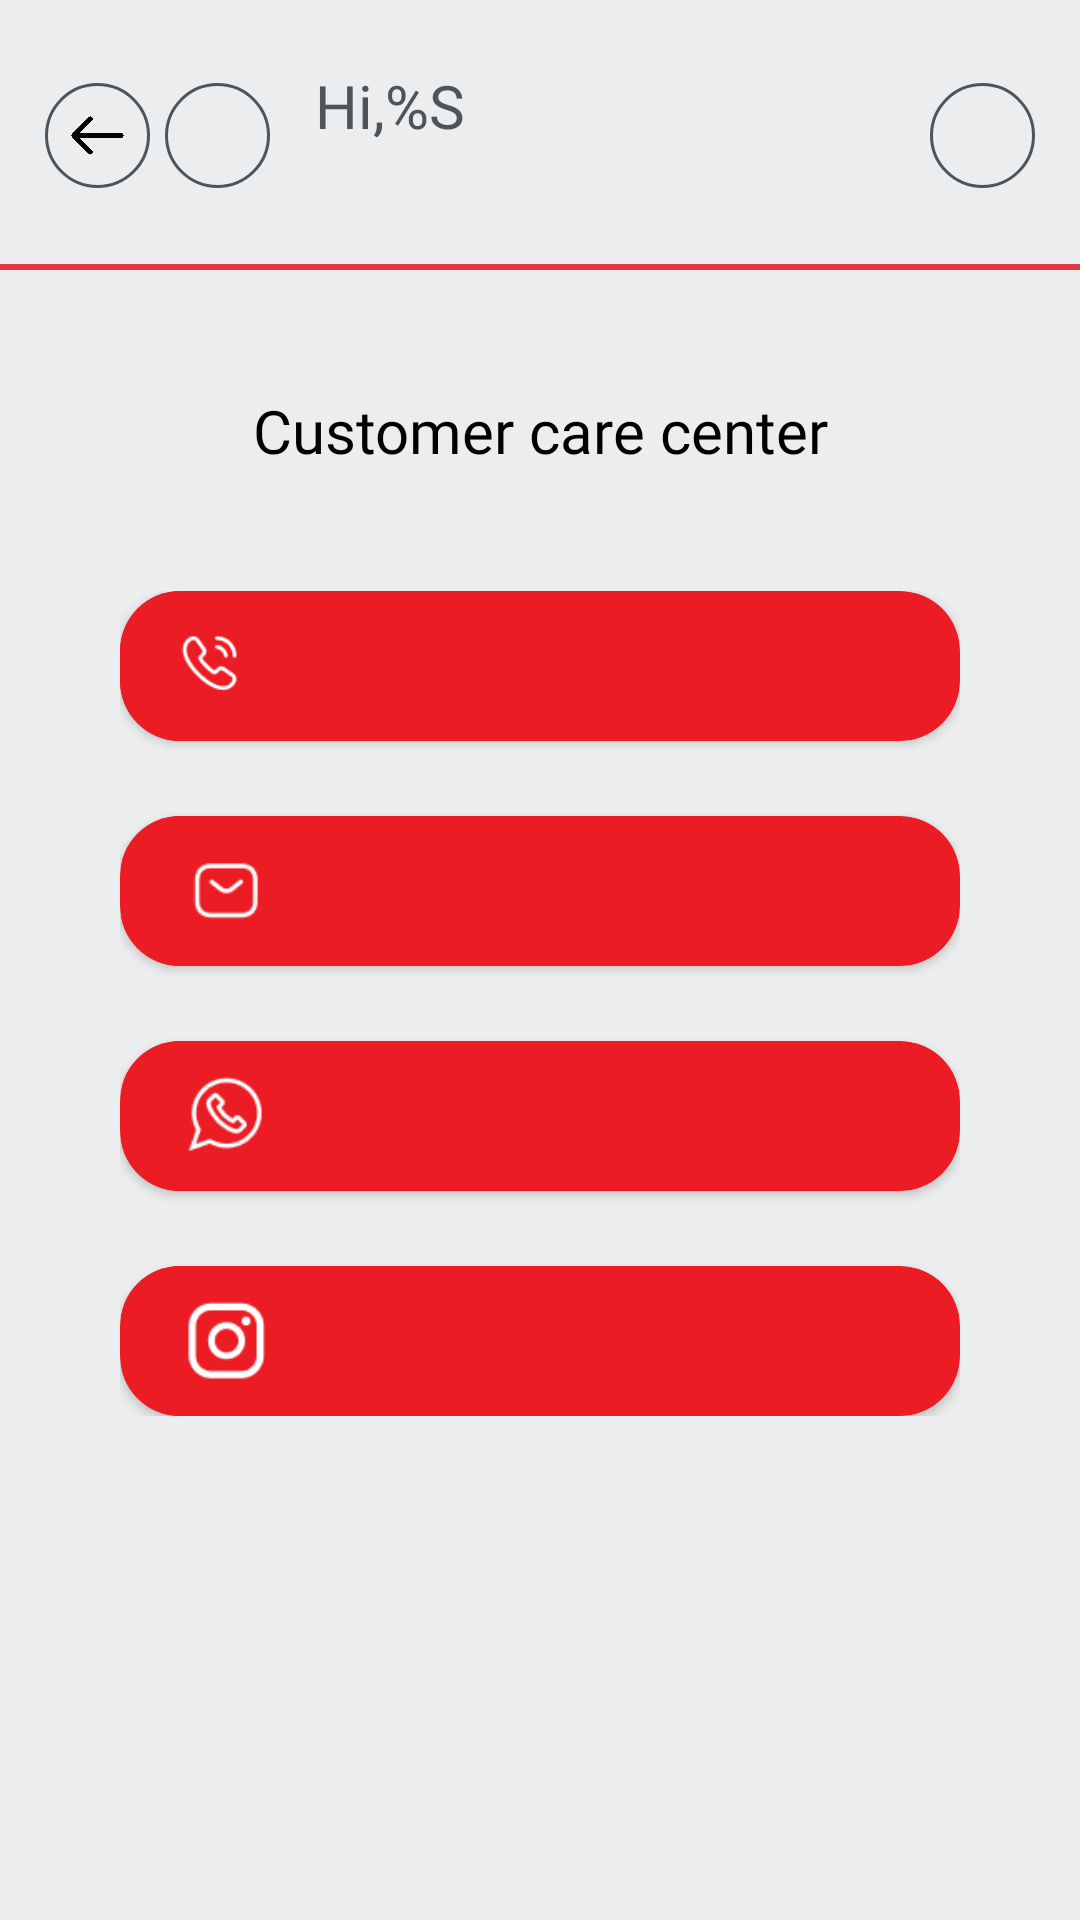

Locate icon controls on the screen. Image size 1080*1920, boxes as (x1, y1, x2, y2).
back: (45, 83, 150, 188)
email iconn: (120, 816, 330, 966)
phone: (120, 591, 300, 741)
